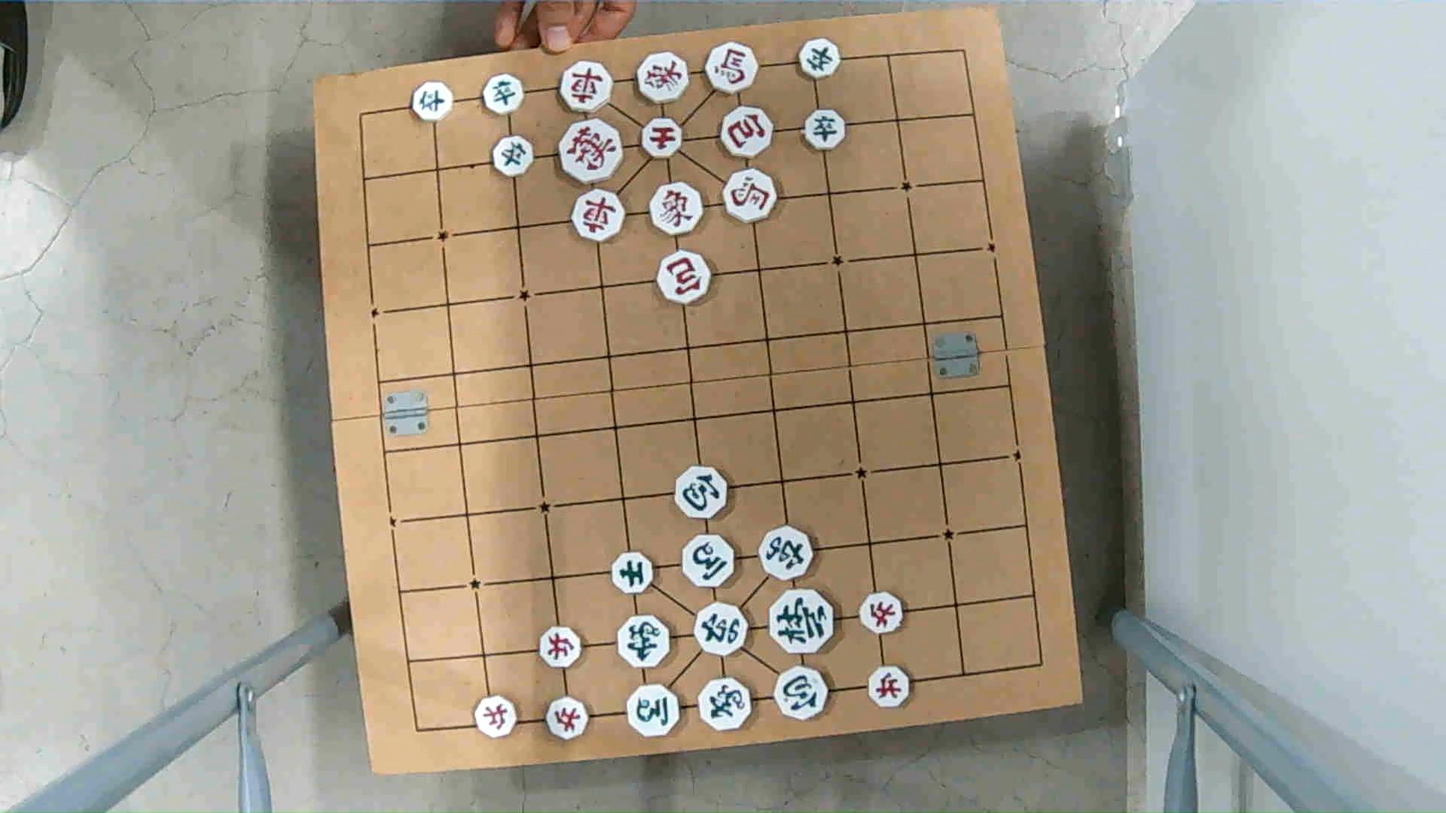cha_green: (694, 604, 751, 655), (758, 531, 814, 580)
cha_red: (574, 193, 628, 242), (560, 65, 614, 112)
jol_green: (795, 40, 839, 78), (493, 136, 535, 175), (801, 112, 844, 150), (412, 81, 453, 120), (480, 76, 522, 114)
jol_red: (475, 697, 520, 737), (539, 627, 584, 667), (859, 595, 905, 634), (867, 667, 912, 706), (545, 699, 587, 738)
ma_green: (626, 687, 682, 738), (680, 538, 736, 589)
ma_red: (725, 171, 780, 220), (703, 42, 758, 89)
po_green: (675, 467, 730, 519), (772, 668, 829, 717)
po_red: (720, 109, 776, 159), (657, 254, 713, 303)
sa_green: (609, 550, 654, 595)
sa_red: (639, 120, 683, 157)
sang_green: (618, 612, 671, 668), (700, 678, 753, 732)
sang_red: (648, 181, 705, 238), (637, 55, 692, 102)
wang_green: (767, 590, 834, 655)
wang_red: (560, 123, 627, 181)
